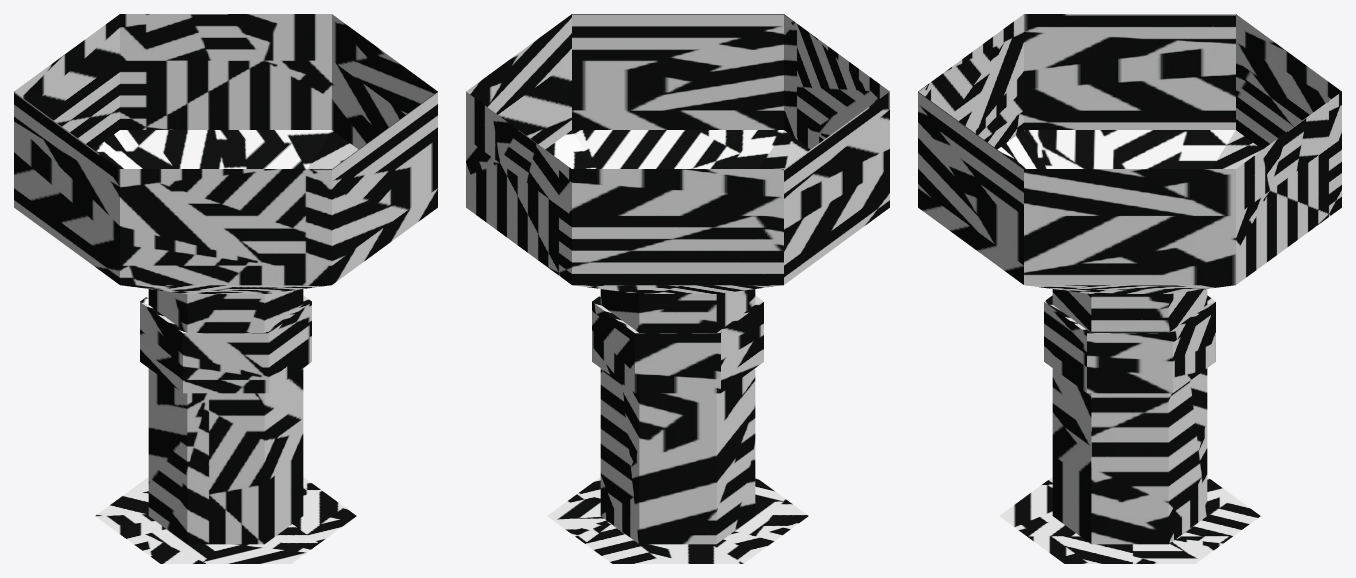
The picture shows the model from 3 angles, left to right: view 1: azimuth 30°, elevation 25°; view 2: azimuth 150°, elevation 25°; view 3: azimuth 270°, elevation 25°; orthographic projection.
Visible parts, largest first — view 1: Cylinder.001; view 2: Cylinder.001; view 3: Cylinder.001.
Part boxes in pixels (x1,y1,x2,y2): Cylinder.001: [14, 14, 437, 563]; Cylinder.001: [466, 14, 889, 563]; Cylinder.001: [918, 14, 1341, 563].
Bounding box in the file's own units: 30.89 × 39.41 × 35.66.
1 material, 1 textured.
